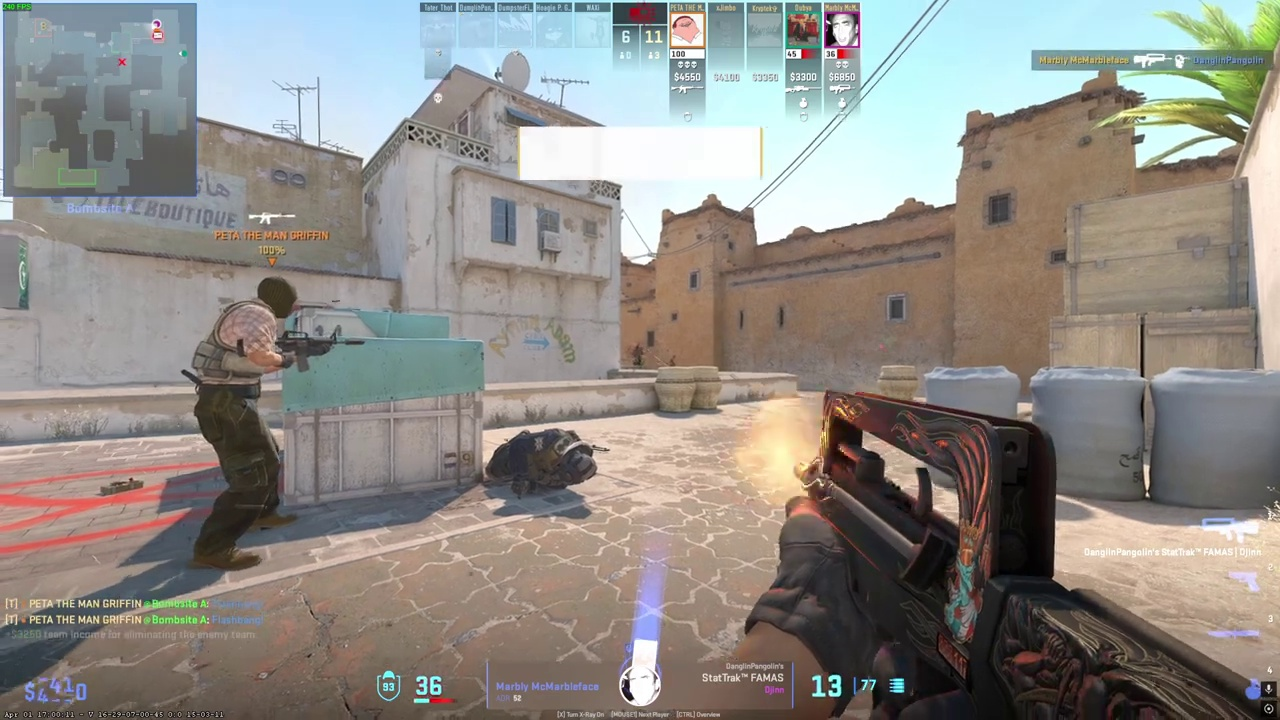Terrorist: (192, 276, 306, 572)
